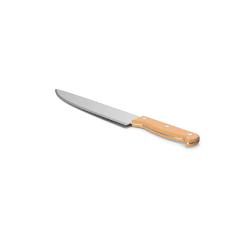Knife: (54, 88, 199, 146)
